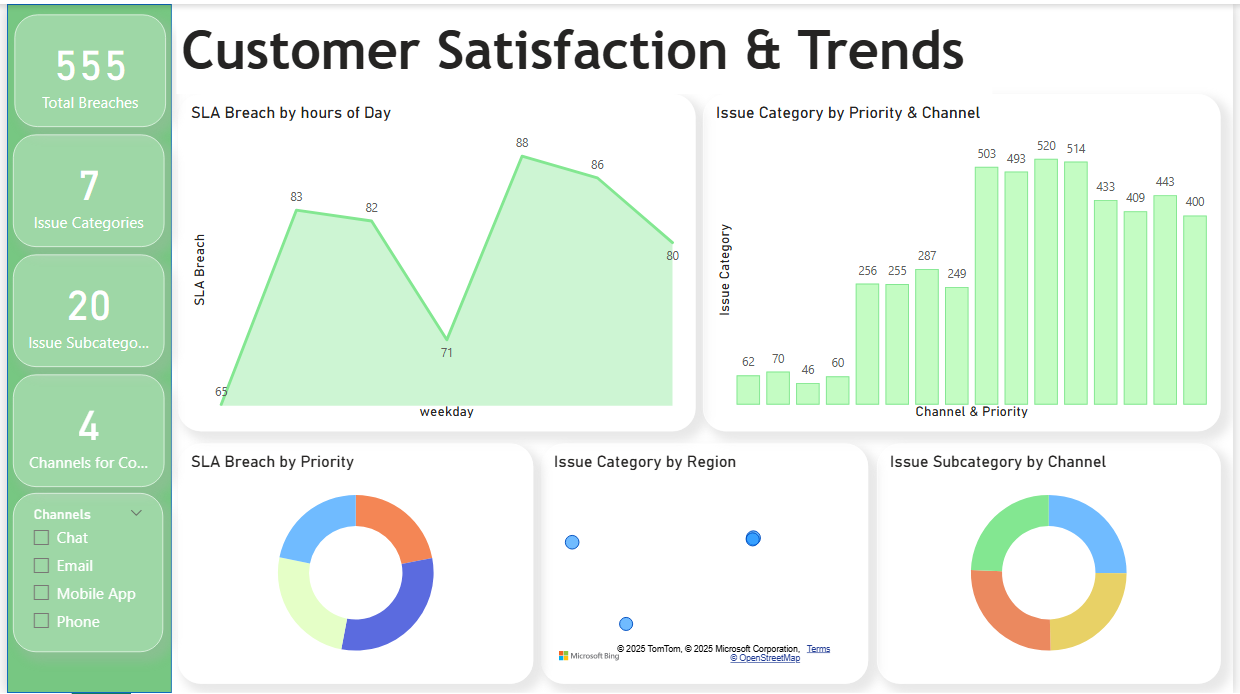

What the dashboard file says about the page in this screenshot:
{"tool":"powerbi","page":{"name":"Old","canvas":[1280,720],"ordinal":0},"visuals":[{"type":"shape","box":[0,0,171.6,720],"z":0},{"type":"lineChart","title":"SLA Breach by hours of Day","fields":{"Y":["Sum(sla_data_cleaned.sla_breach_flag)"],"Category":["sla_data_cleaned.weekday"]},"box":[178.4,93.9,540,352.2],"z":1000},{"type":"columnChart","title":"Issue Category by Priority &  Channel","fields":{"Category":["sla_data_cleaned.priority","sla_data_cleaned.channel"],"Y":["CountNonNull(sla_data_cleaned.issue_category)"]},"box":[726.3,93.9,540,352.2],"z":2000},{"type":"map","title":"Issue Category by Region","fields":{"Size":["Sum(sla_data_cleaned.sla_breach_flag)"],"Category":["sla_data_cleaned.region"]},"box":[557.2,458.6,341.2,250.4],"z":3000},{"type":"donutChart","title":"Issue Subcategory by Channel","fields":{"Series":["sla_data_cleaned.channel"],"Y":["CountNonNull(sla_data_cleaned.issue_subcategory)"]},"box":[907.8,458.6,358.4,250.4],"z":4000},{"type":"donutChart","title":"SLA Breach by Priority","fields":{"Y":["Sum(sla_data_cleaned.sla_breach_flag)"],"Series":["sla_data_cleaned.priority"]},"box":[178.4,458.6,371,250.4],"z":5000},{"type":"card","fields":{"Values":["Sum(sla_data_cleaned.sla_breach_flag)"]},"box":[7.8,11,158.1,117.4],"z":6000},{"type":"card","fields":{"Values":["Count(sla_data_cleaned.issue_category)"]},"box":[6.3,136.2,158.1,117.4],"z":7000},{"type":"card","fields":{"Values":["Count(sla_data_cleaned.issue_subcategory)"]},"box":[6.3,261.4,158.1,117.4],"z":8000},{"type":"card","fields":{"Values":["Count(sla_data_cleaned.channel)"]},"box":[6.3,386.6,158.1,117.4],"z":9000},{"type":"slicer","fields":{"Values":["sla_data_cleaned.channel"]},"box":[6.3,510.3,156.5,165.9],"z":10000},{"type":"textbox","box":[190,9.2,851.7,84.3],"z":11000}]}

Visuals, with their boxes in screenshot pixels (x1, y1, x2, y2), scaled from the page's 1280x720 canvas onto the 1240x694 screenshot:
shape: <box>0,0,166,693</box>
"SLA Breach by hours of Day" lineChart: <box>173,91,696,430</box>
"Issue Category by Priority &  Channel" columnChart: <box>704,91,1227,430</box>
"Issue Category by Region" map: <box>540,442,870,683</box>
"Issue Subcategory by Channel" donutChart: <box>879,442,1227,683</box>
"SLA Breach by Priority" donutChart: <box>173,442,532,683</box>
card - Sum(sla_data_cleaned.sla_breach_flag): <box>8,11,161,124</box>
card - Count(sla_data_cleaned.issue_category): <box>6,131,159,244</box>
card - Count(sla_data_cleaned.issue_subcategory): <box>6,252,159,365</box>
card - Count(sla_data_cleaned.channel): <box>6,373,159,486</box>
slicer - sla_data_cleaned.channel: <box>6,492,158,652</box>
textbox: <box>184,9,1009,90</box>
